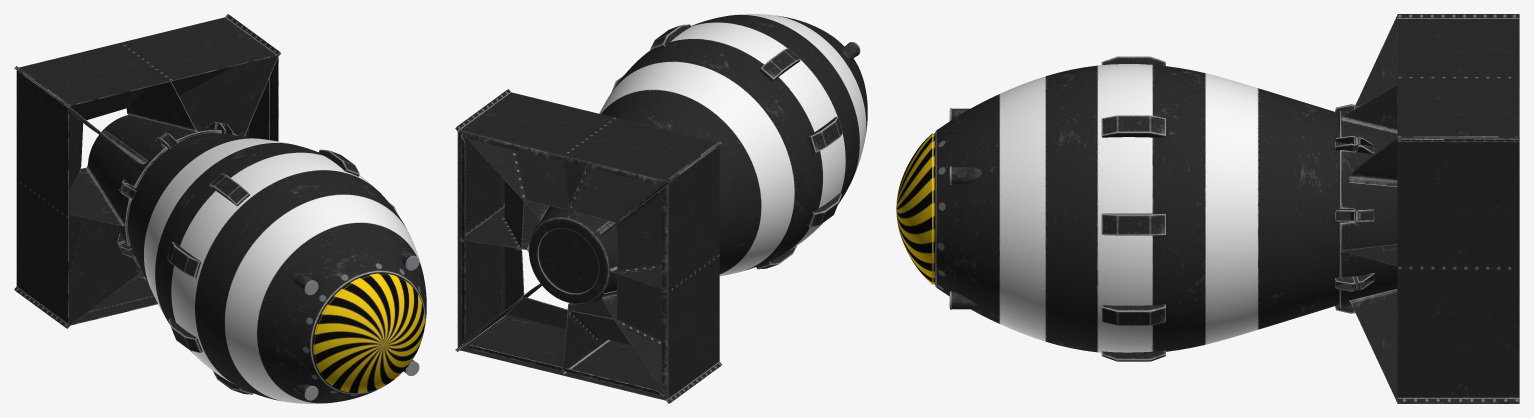
Rendered from fatman.glb.
The picture shows the model from 3 angles, left to right: view 1: azimuth 30°, elevation 25°; view 2: azimuth 150°, elevation 25°; view 3: azimuth 270°, elevation 25°; orthographic projection. The views are drawn at different scales.
Parts seen in each view (by area): view 1: Bombe_avant, Ailerons, object 4, Fermeture, Senseurs, Attache; view 2: Ailerons, Bombe_avant, object 4, Fermeture; view 3: Bombe_avant, Ailerons, object 4, Fermeture, Attache, Senseurs.
Boxes of the visible parts, x1=… form: Bombe_avant: x1=128, y1=133, x2=426, y2=403; Ailerons: x1=14, y1=14, x2=280, y2=328; object 4: x1=88, y1=115, x2=237, y2=267; Fermeture: x1=167, y1=149, x2=396, y2=394; Senseurs: x1=293, y1=247, x2=419, y2=400; Attache: x1=117, y1=122, x2=233, y2=257; Ailerons: x1=455, y1=89, x2=721, y2=403; Bombe_avant: x1=599, y1=14, x2=867, y2=276; object 4: x1=529, y1=206, x2=617, y2=303; Fermeture: x1=611, y1=24, x2=842, y2=269; Bombe_avant: x1=896, y1=64, x2=1353, y2=352; Ailerons: x1=1341, y1=14, x2=1519, y2=403; object 4: x1=1339, y1=111, x2=1397, y2=307; Fermeture: x1=1101, y1=56, x2=1165, y2=361; Attache: x1=1334, y1=104, x2=1374, y2=313; Senseurs: x1=949, y1=108, x2=981, y2=309.
Size of the model in its own units: 0.9474 by 0.9474 by 2.
Materials: 6 (6 with a texture image).
